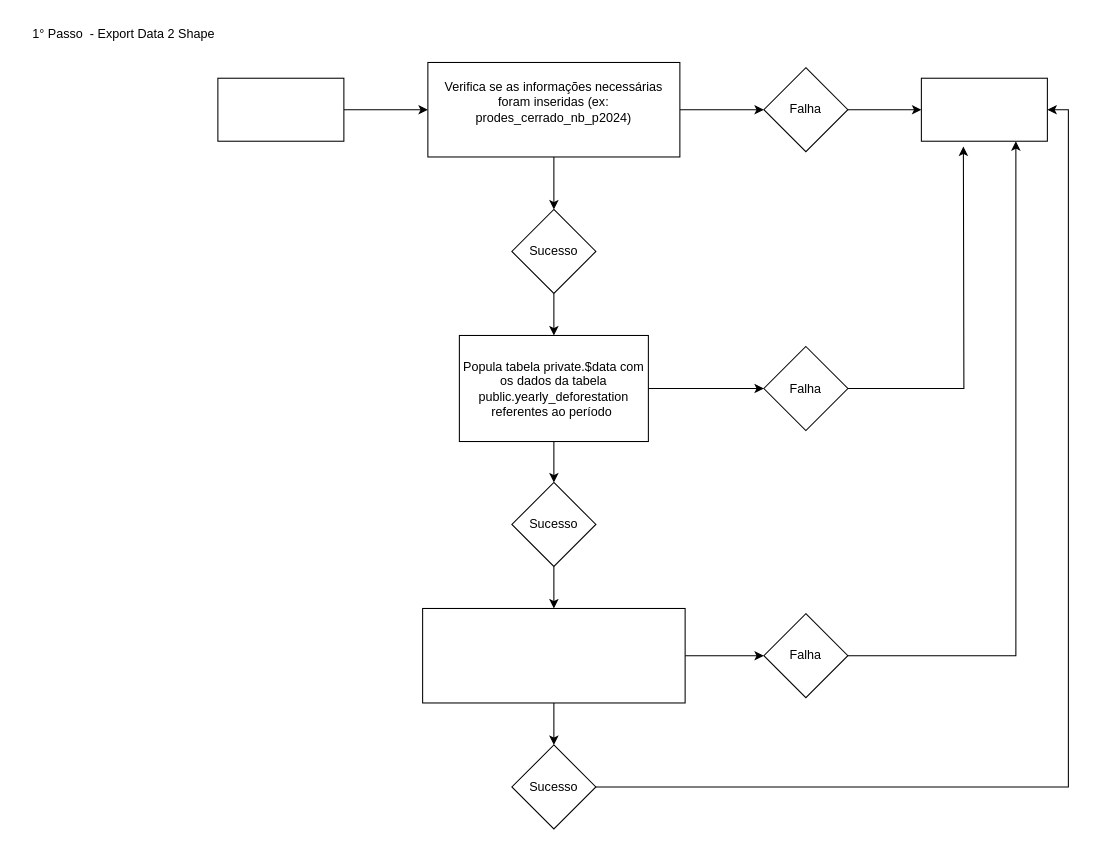
Image size: 1095x847. Some labels were removed from this diagram. Here are the shapes that lost their labels. From the top down, the centre of each, then its label:
point 280,109: Start
point 983,109: Fim
point 553,655: Criar tabela private."$data"_subdivided
